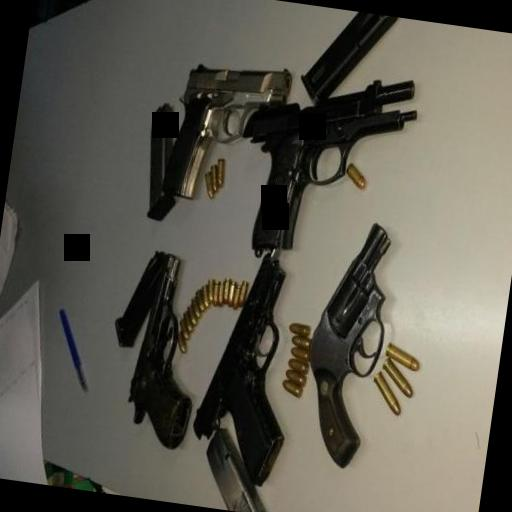Handgun: (240, 54, 420, 276), (186, 236, 306, 484), (292, 214, 401, 468), (155, 48, 296, 210), (120, 250, 210, 452)
